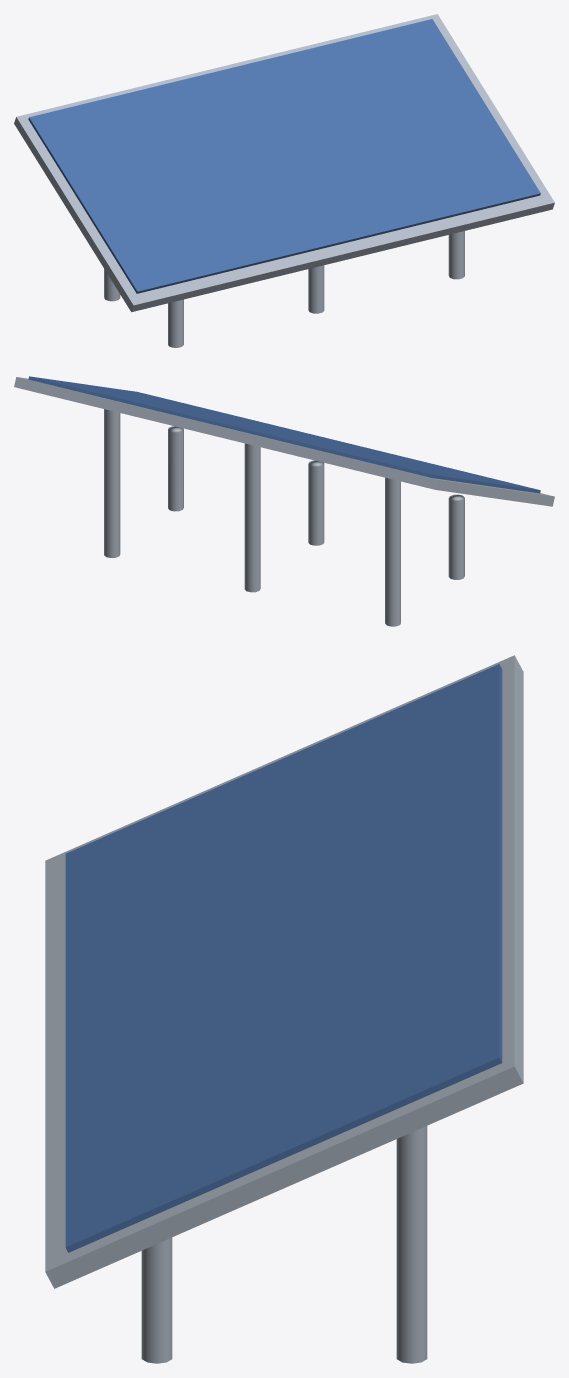
Rendered from prop_solar_array.glb.
The picture shows the model from 3 angles, top to bottom: view 1: azimuth 30°, elevation 25°; view 2: azimuth 150°, elevation 25°; view 3: azimuth 270°, elevation 25°; orthographic projection. The views are drawn at different scales.
Parts seen in each view (by area): view 1: primary_color, frame_legs; view 2: frame_legs, primary_color; view 3: primary_color, frame_legs.
Part boxes in pixels (<box>): primary_color: <box>28,19,540,293</box>; frame_legs: <box>14,14,554,347</box>; frame_legs: <box>14,377,554,626</box>; primary_color: <box>28,376,540,493</box>; primary_color: <box>65,664,502,1252</box>; frame_legs: <box>45,655,523,1363</box>.
Size of the model in its own units: 4.2 by 1.71 by 2.07.
2 materials, 1 textured.
